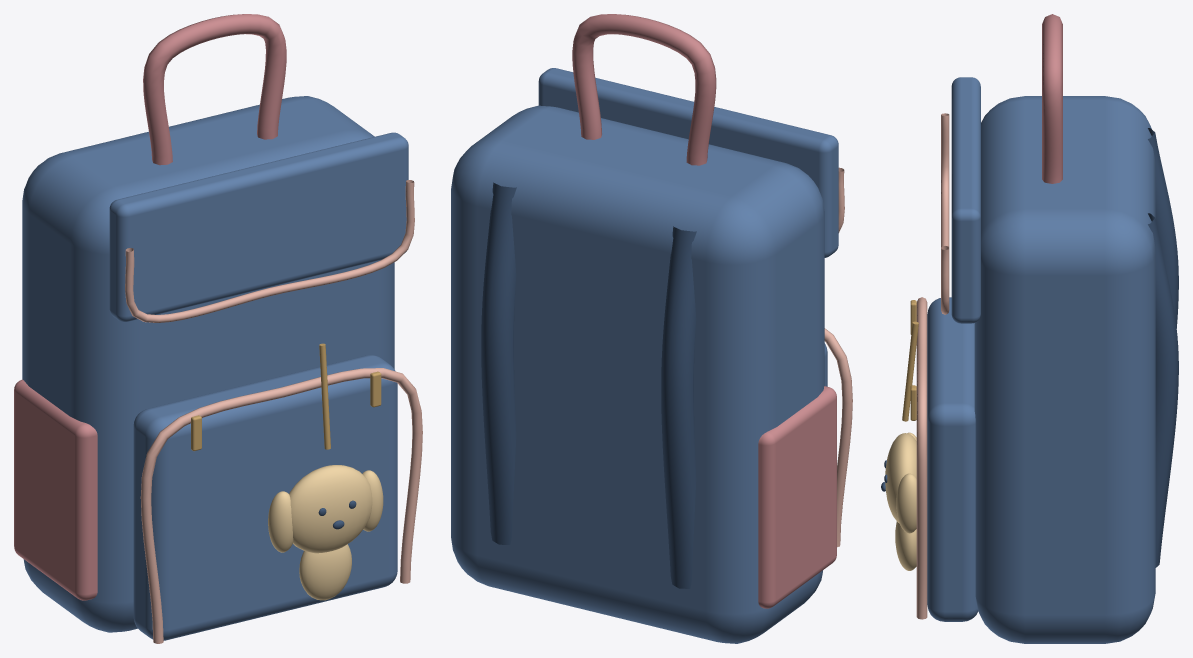
File: urban-schoolbag-v1.glb
3 renders of one model, left to right at view 1: azimuth 30°, elevation 25°; view 2: azimuth 150°, elevation 25°; view 3: azimuth 270°, elevation 25°, orthographic. The views are drawn at different scales.
Parts seen in each view (by area): view 1: Backpack-main, Backpack-front-pocket, Backpack-top-flap, Backpack-side-pocket, Backpack-carry-handle, Backpack-pocket-piping, Puppy-charm-head, Backpack-flap-piping, Puppy-charm-body, Puppy-charm-ear (×2), Puppy-charm-chain; view 2: Backpack-main, Backpack-shoulder-strap (×2), Backpack-side-pocket, Backpack-top-flap, Backpack-carry-handle, Backpack-pocket-piping; view 3: Backpack-main, Backpack-front-pocket, Backpack-shoulder-strap (×2), Backpack-top-flap, Backpack-pocket-piping, Backpack-carry-handle, Backpack-flap-piping, Puppy-charm-head, Puppy-charm-ear, Puppy-charm-body, Puppy-charm-chain.
Boxes of the visible parts, left/top/right/bottom form: Backpack-main: left=22, top=96, right=394, bottom=632; Backpack-front-pocket: left=133, top=355, right=397, bottom=640; Backpack-top-flap: left=109, top=132, right=408, bottom=322; Backpack-side-pocket: left=14, top=379, right=97, bottom=600; Backpack-carry-handle: left=143, top=14, right=286, bottom=165; Backpack-pocket-piping: left=140, top=368, right=422, bottom=643; Puppy-charm-head: left=289, top=465, right=372, bottom=553; Backpack-flap-piping: left=125, top=180, right=414, bottom=322; Puppy-charm-body: left=299, top=544, right=351, bottom=600; Puppy-charm-ear (×2): left=268, top=470, right=383, bottom=552; Puppy-charm-chain: left=319, top=343, right=330, bottom=449; Backpack-main: left=451, top=105, right=824, bottom=643; Backpack-shoulder-strap (×2): left=481, top=182, right=696, bottom=588; Backpack-side-pocket: left=758, top=386, right=836, bottom=608; Backpack-top-flap: left=538, top=68, right=838, bottom=257; Backpack-carry-handle: left=572, top=14, right=716, bottom=165; Backpack-pocket-piping: left=824, top=328, right=852, bottom=547; Backpack-main: left=974, top=96, right=1155, bottom=643; Backpack-front-pocket: left=927, top=297, right=978, bottom=621; Backpack-shoulder-strap (×2): left=1148, top=128, right=1178, bottom=567; Backpack-top-flap: left=951, top=77, right=980, bottom=323; Backpack-pocket-piping: left=916, top=297, right=927, bottom=619; Backpack-carry-handle: left=1042, top=14, right=1062, bottom=183; Backpack-flap-piping: left=941, top=113, right=949, bottom=314; Puppy-charm-head: left=885, top=433, right=916, bottom=523; Puppy-charm-ear: left=896, top=473, right=916, bottom=533; Puppy-charm-body: left=895, top=521, right=916, bottom=570; Puppy-charm-chain: left=902, top=321, right=918, bottom=421.
Size of the model in its own units: 0.1735 by 0.2922 by 0.1416.
